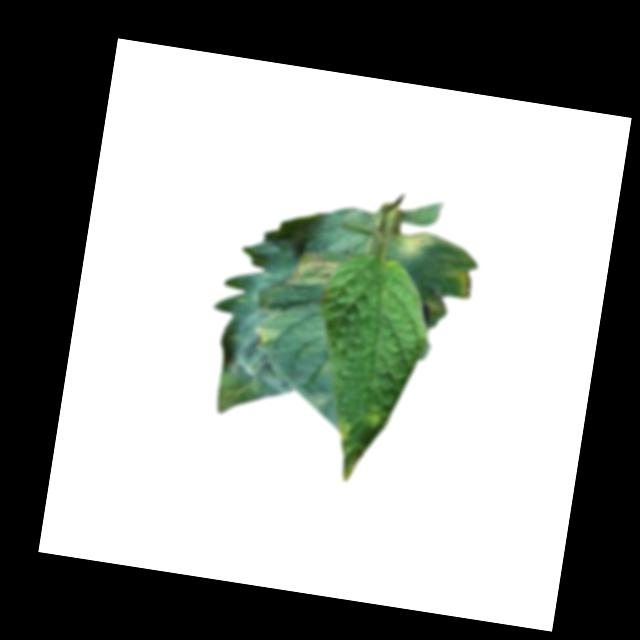Leaf_Mold: (285, 248, 343, 294), (392, 226, 433, 259), (444, 264, 475, 298), (254, 323, 279, 351), (332, 420, 357, 448), (363, 410, 386, 435)
